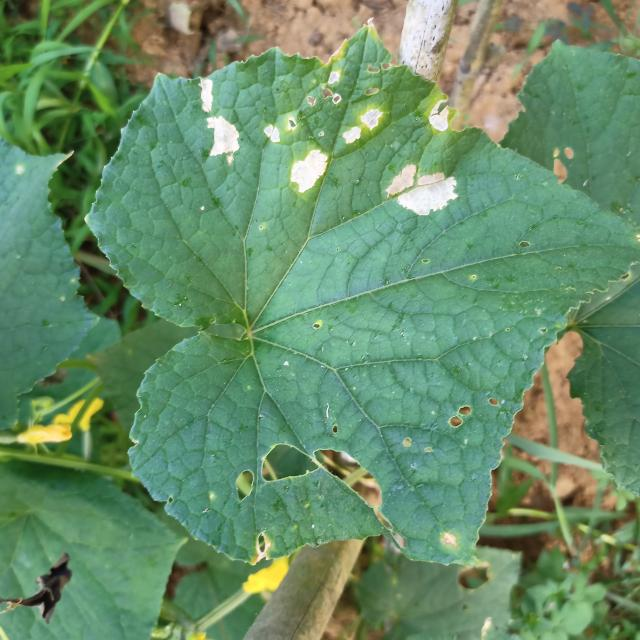disease_cucumber: (254, 70, 388, 201), (376, 157, 466, 223), (186, 77, 243, 169), (421, 96, 455, 136)
